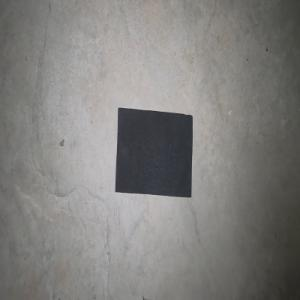PaintChip: (114, 106, 193, 197)
